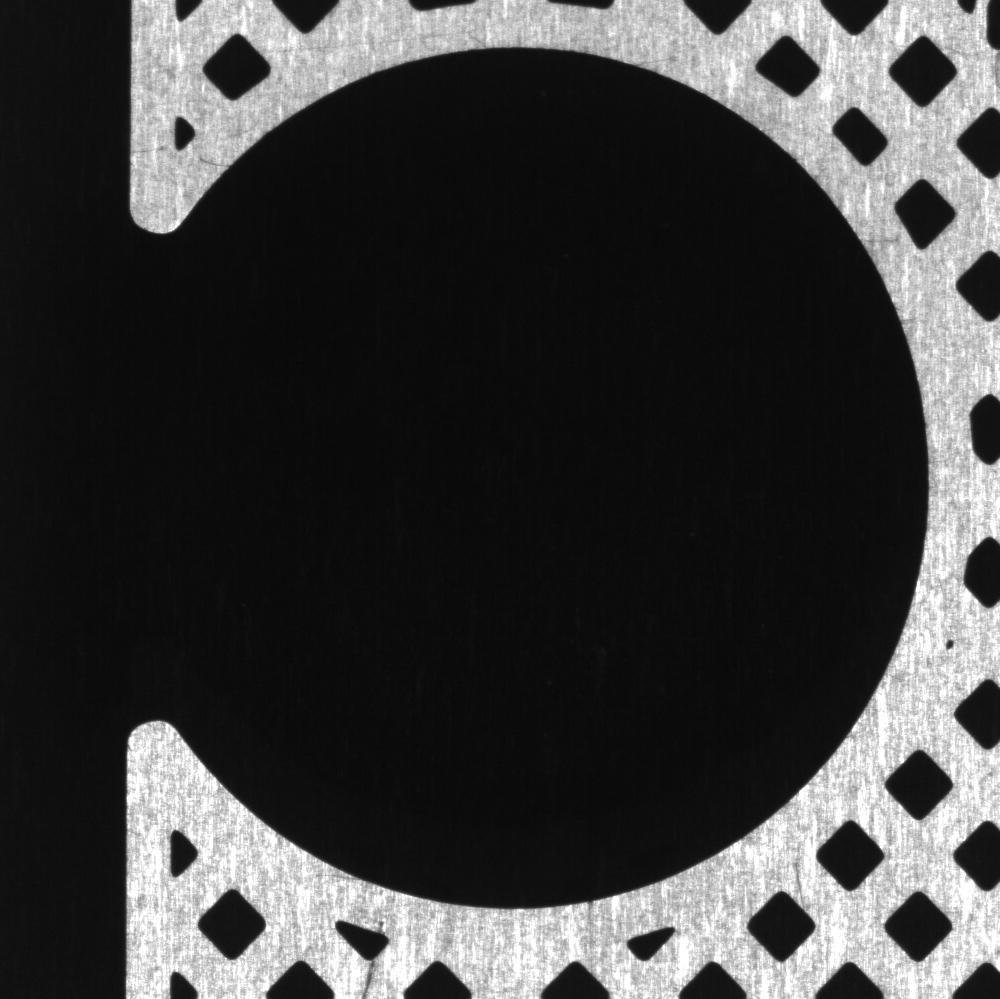Scar: (271, 19, 492, 56), (788, 833, 818, 913), (354, 956, 385, 999)
